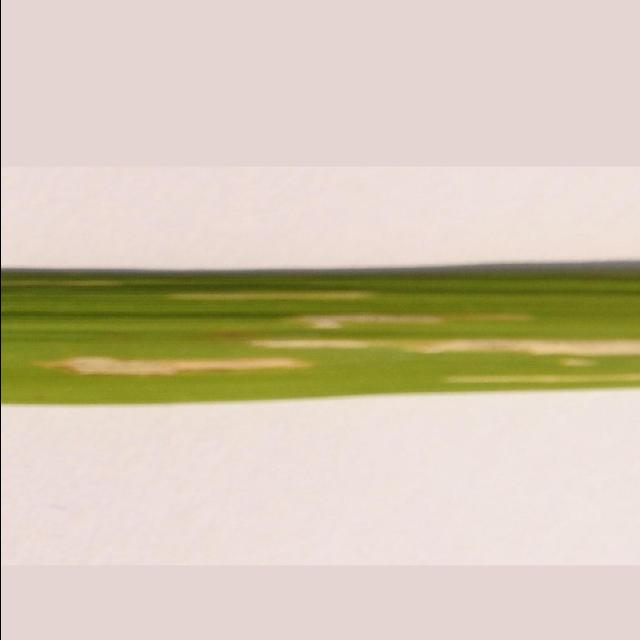Bacterial leaf blight: (238, 327, 640, 364), (20, 356, 314, 380), (166, 286, 372, 310), (290, 309, 461, 333), (433, 372, 640, 391)
